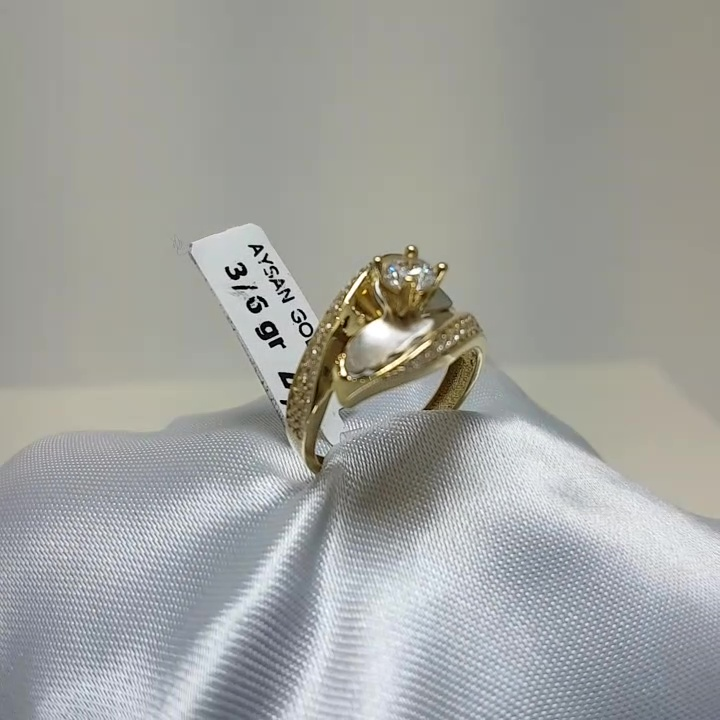Ring 6: (261, 246, 511, 478)
